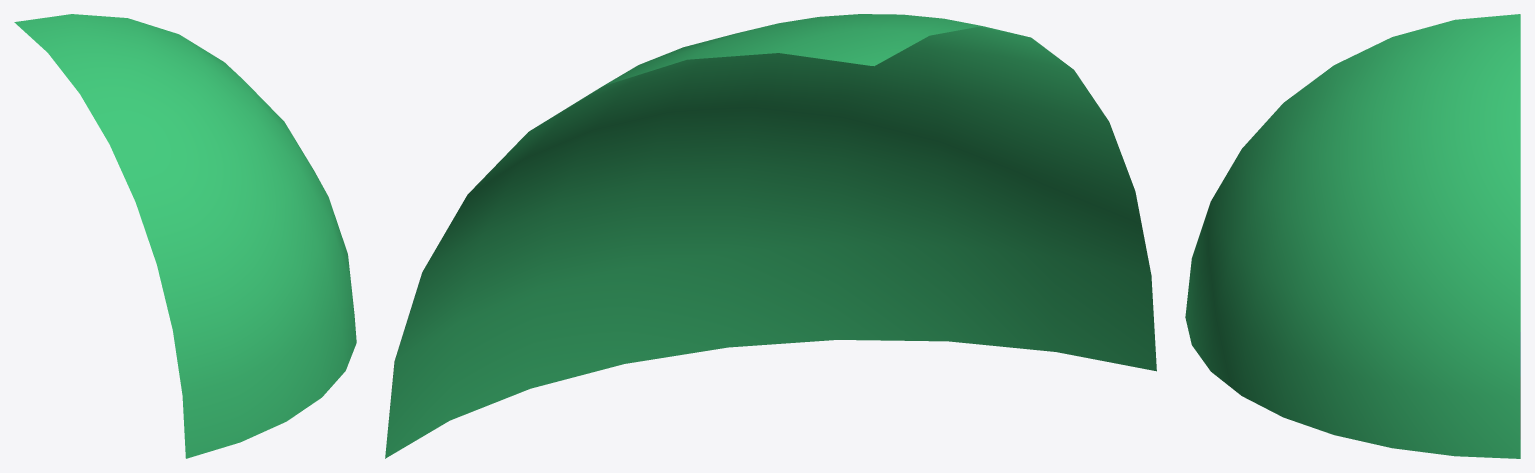
The model's file is r4c1_face_green.gltf.
3 renders of one model, left to right at view 1: azimuth 30°, elevation 25°; view 2: azimuth 150°, elevation 25°; view 3: azimuth 270°, elevation 25°, orthographic. The views are drawn at different scales.
Visible parts, largest first — view 1: r4c1_face_green; view 2: r4c1_face_green; view 3: r4c1_face_green.
Boxes of the visible parts, box(x1,y1,x2,y2) form: r4c1_face_green: box(14, 14, 356, 458); r4c1_face_green: box(385, 14, 1156, 458); r4c1_face_green: box(1185, 14, 1520, 458).
Bounding box in the file's own units: 2 × 2 × 2.
Materials: 1 (1 with a texture image).
